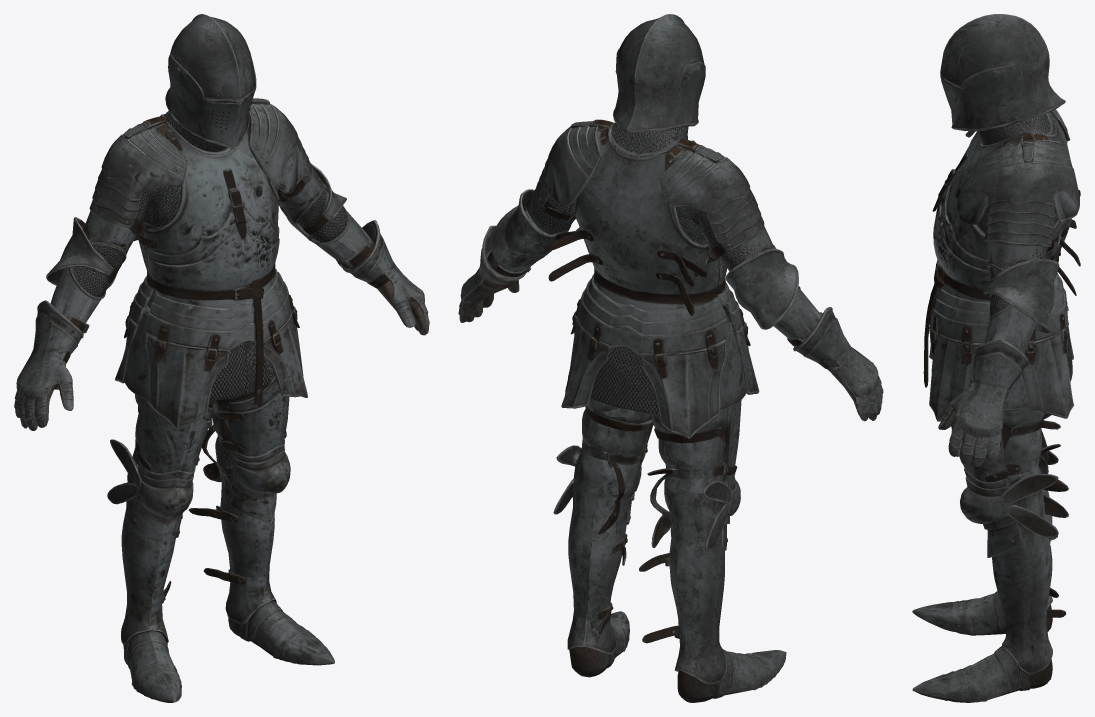
File: knight_meshy.glb
The picture shows the model from 3 angles, left to right: view 1: azimuth 30°, elevation 25°; view 2: azimuth 150°, elevation 25°; view 3: azimuth 270°, elevation 25°; orthographic projection. The views are drawn at different scales.
Parts seen in each view (by area): view 1: Mesh_0; view 2: Mesh_0; view 3: Mesh_0.
Boxes of the visible parts, <box> form: Mesh_0: <box>14,14,429,702</box>; Mesh_0: <box>458,14,883,702</box>; Mesh_0: <box>912,14,1080,702</box>.
Bounding box in the file's own units: 1.24 × 1.9 × 0.4475.
1 material, 1 textured.
